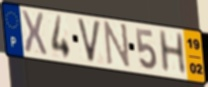4: (50, 13, 72, 61)
5: (134, 27, 158, 71)
H: (157, 28, 188, 75)
N: (103, 21, 131, 72)
V: (75, 16, 103, 65)
X: (20, 9, 49, 57)
